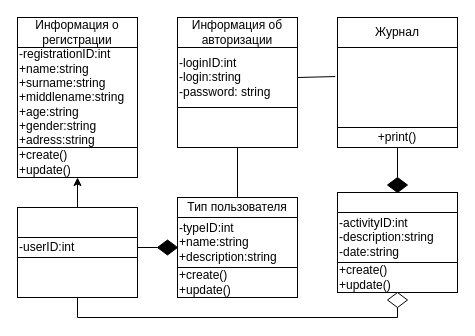
This 475x336 diagram has some shape labels left out. Here are the shapes that lost their labels. From the top down, the box of each, then its label:
(336, 46, 458, 128): -logs:int +userAccount:int +userType +loginTime:string +loginDate:string
(176, 106, 298, 148): +create() +validate() +update()
(16, 206, 138, 238): Информация о пользователе
(336, 192, 458, 212): Действия
(16, 256, 138, 298): +add() +delete()
